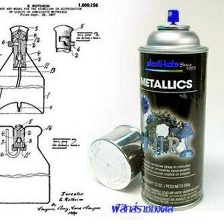aerosol_cans: (132, 3, 212, 216)
